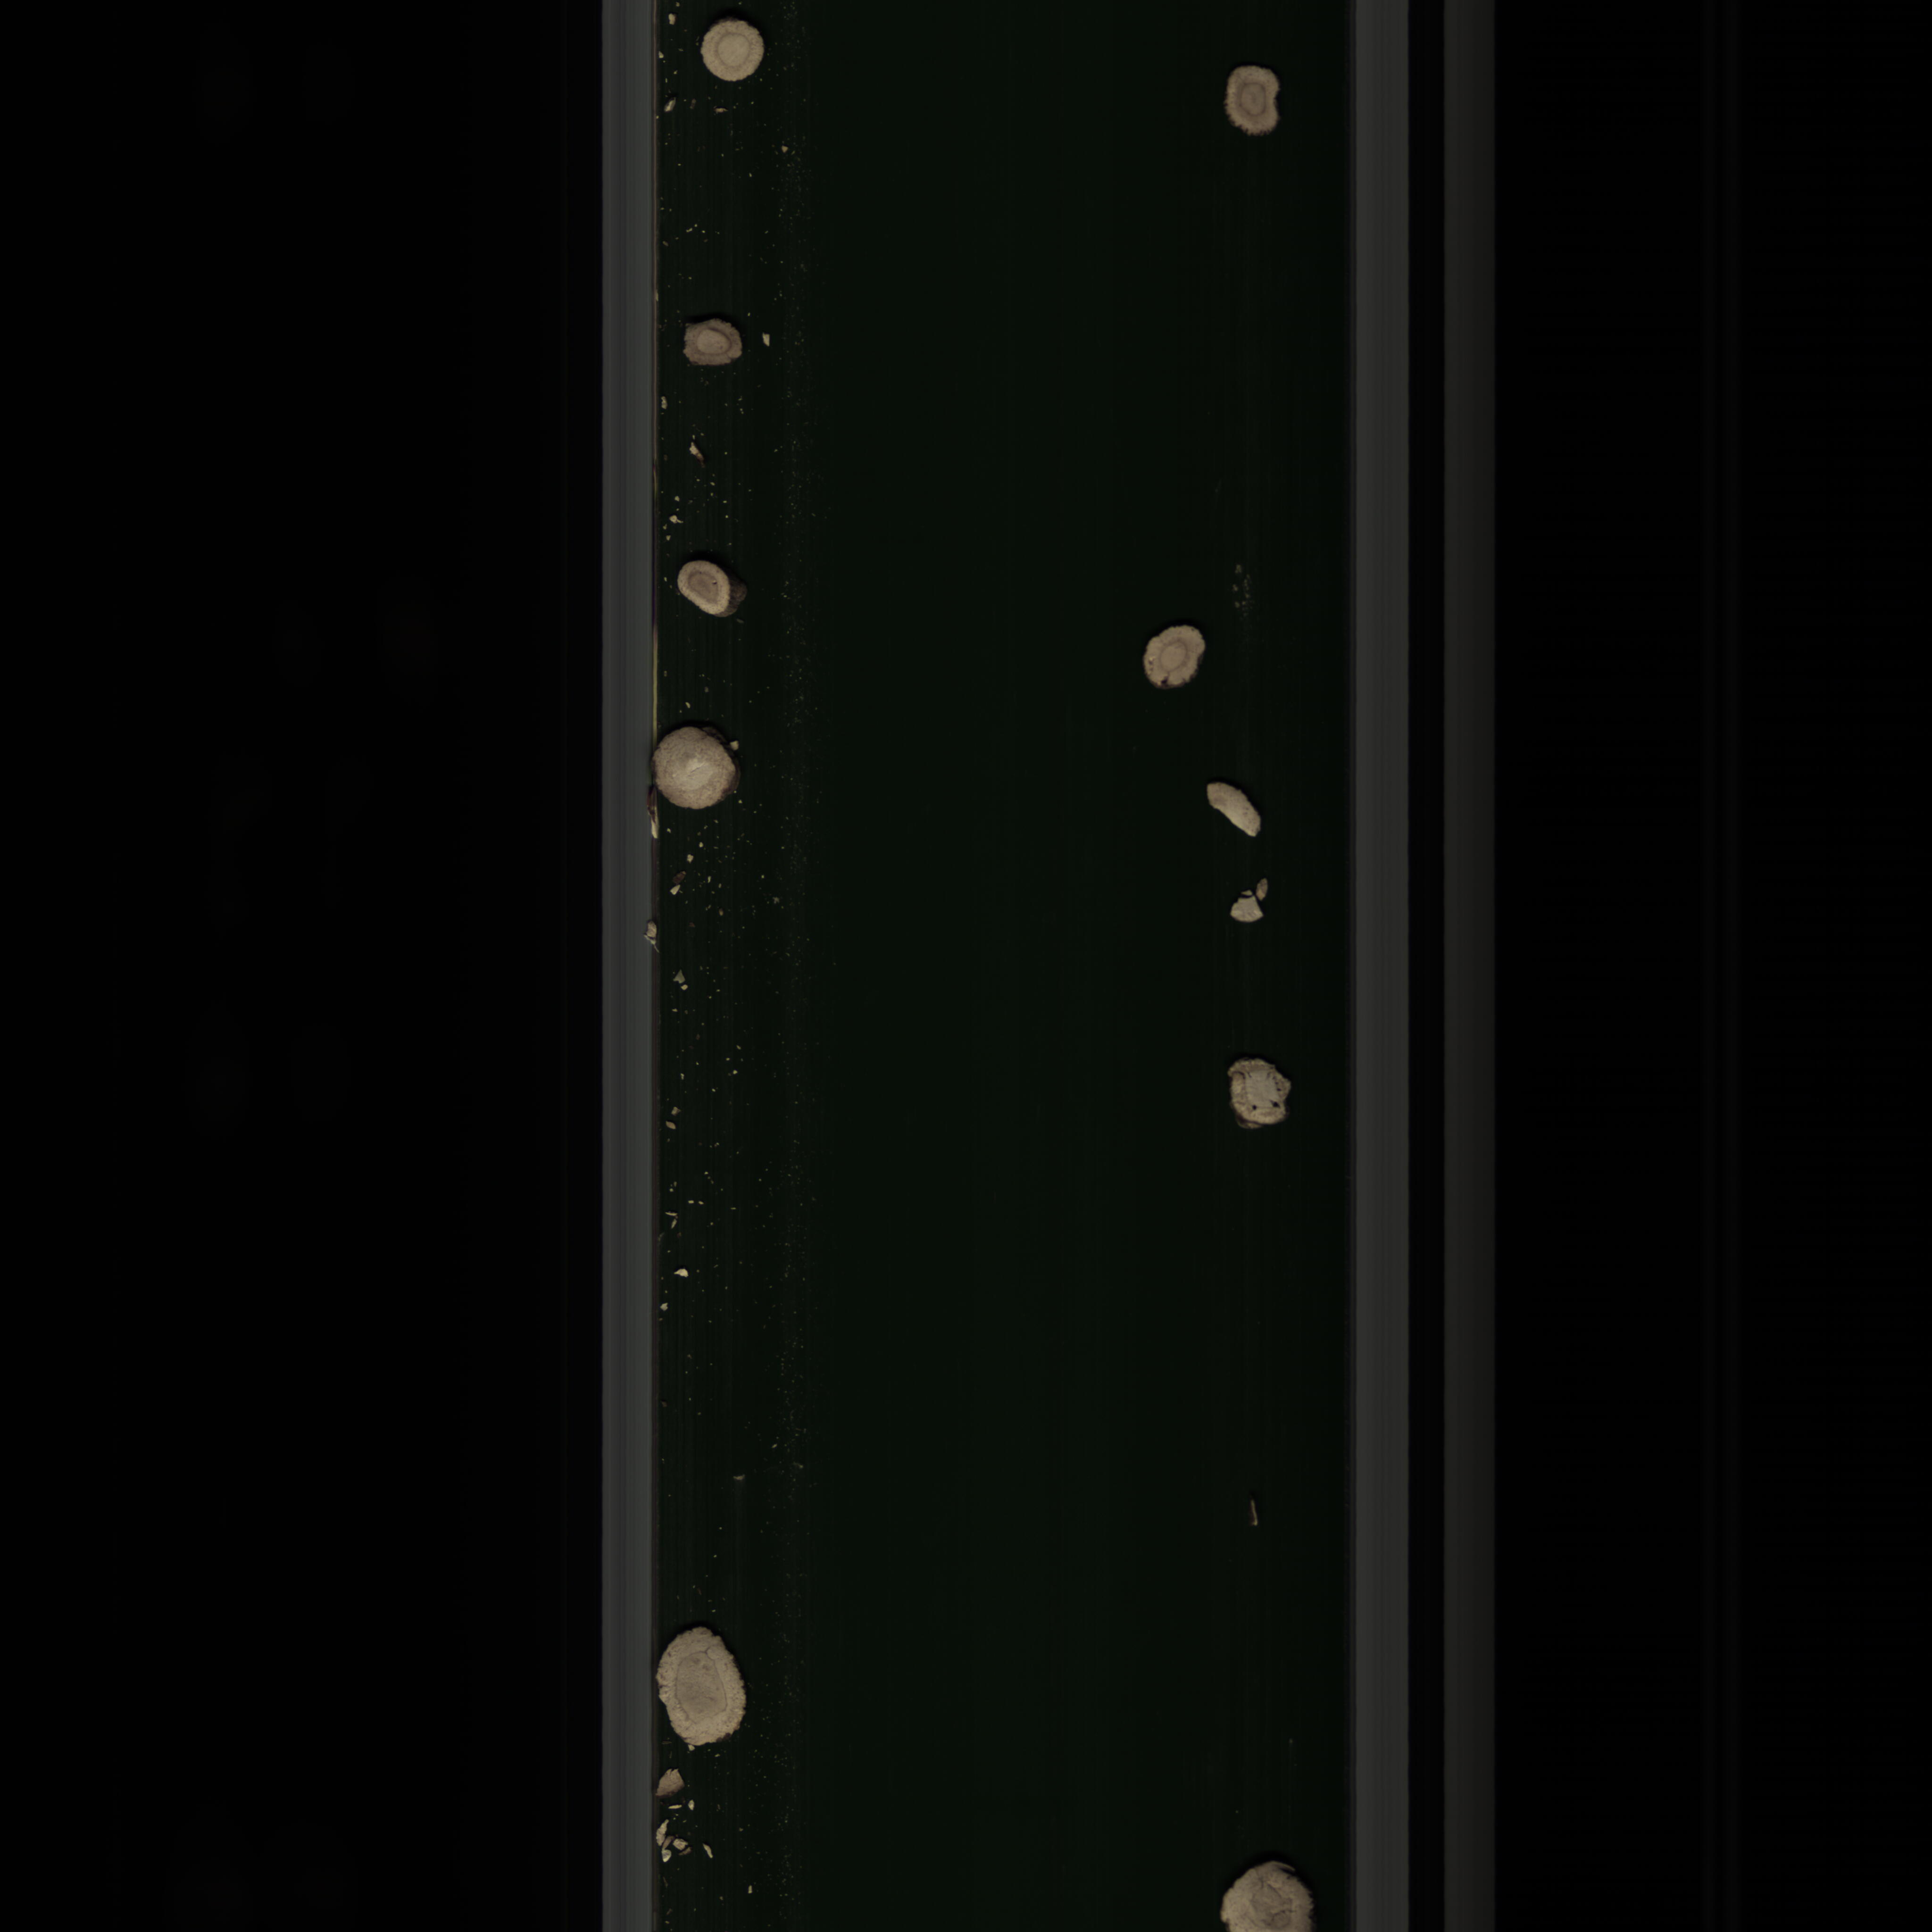debris: (1194, 771, 1269, 846), (1223, 874, 1284, 939)
moldy: (1217, 1051, 1302, 1139), (672, 556, 754, 628), (1223, 58, 1293, 142), (672, 317, 752, 363)
